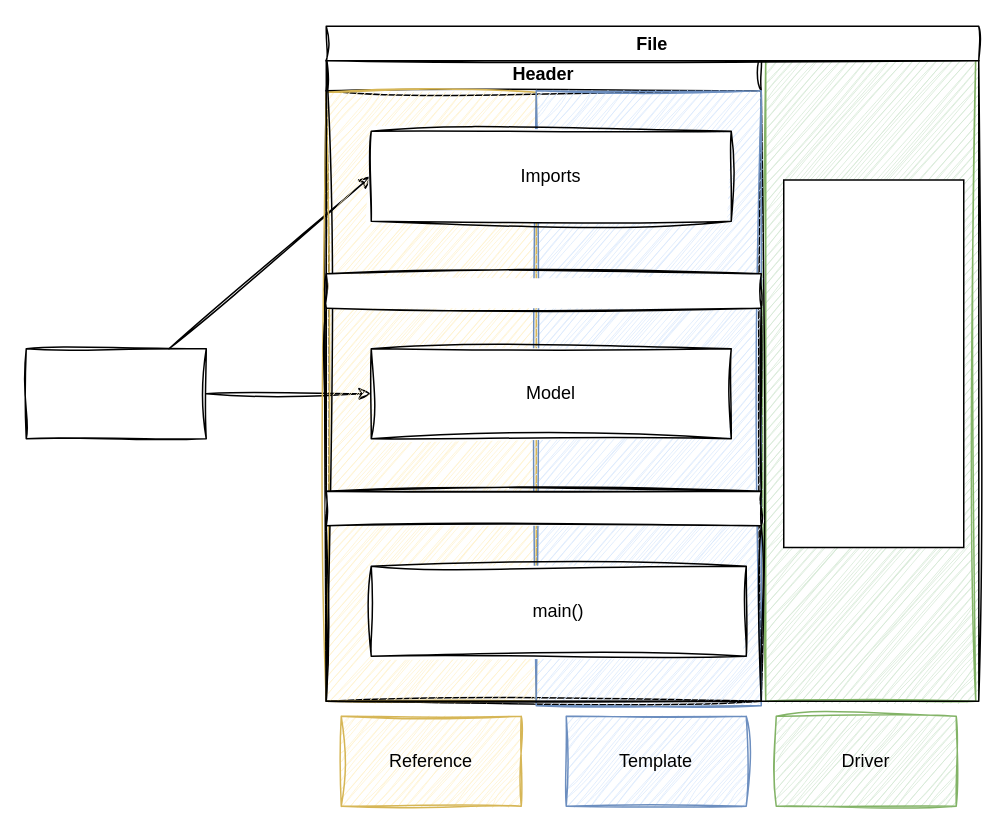
Image size: 1005x833. Some labels were removed from this diagram. Here are the shapes that lost their labels. From the top down, the box of each, then its label:
(325, 272, 761, 491): Body
(782, 178, 964, 548): Differential Tests
(25, 347, 206, 439): Machine Learning Libraries dependent
(325, 490, 761, 701): Footer
